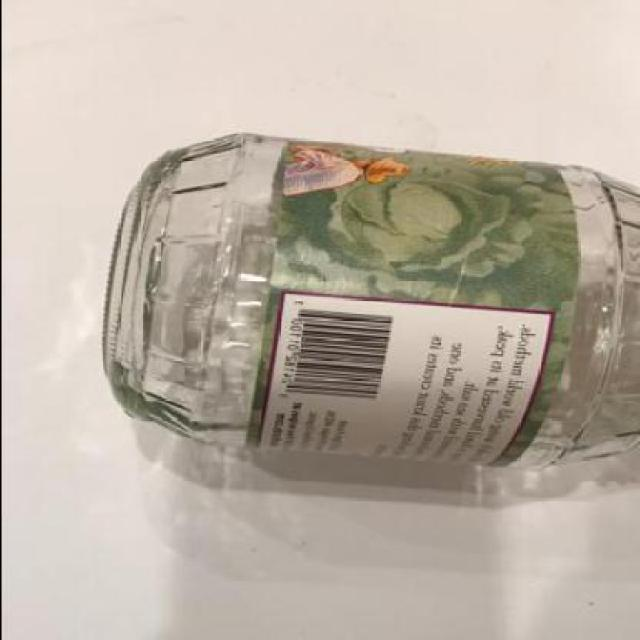glass: (100, 131, 638, 469)
